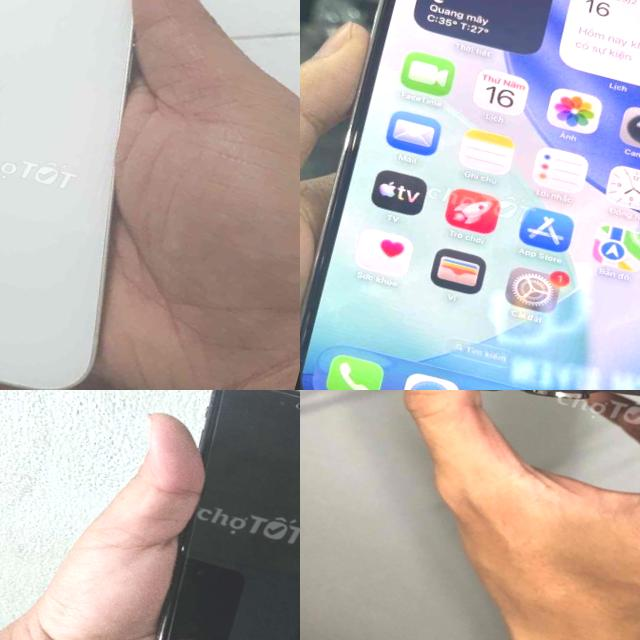gen_12_13: (300, 0, 640, 390)
gen_14: (0, 0, 217, 390)
gen_7_8: (120, 390, 300, 640)
scratch: (372, 390, 640, 473), (233, 390, 300, 428), (190, 390, 226, 449), (136, 613, 174, 640), (173, 539, 187, 553)
